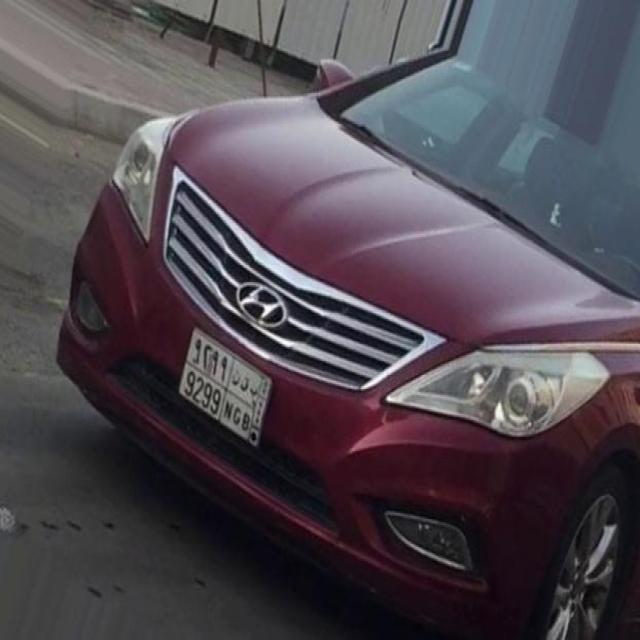Car-plate: (169, 317, 278, 461)
